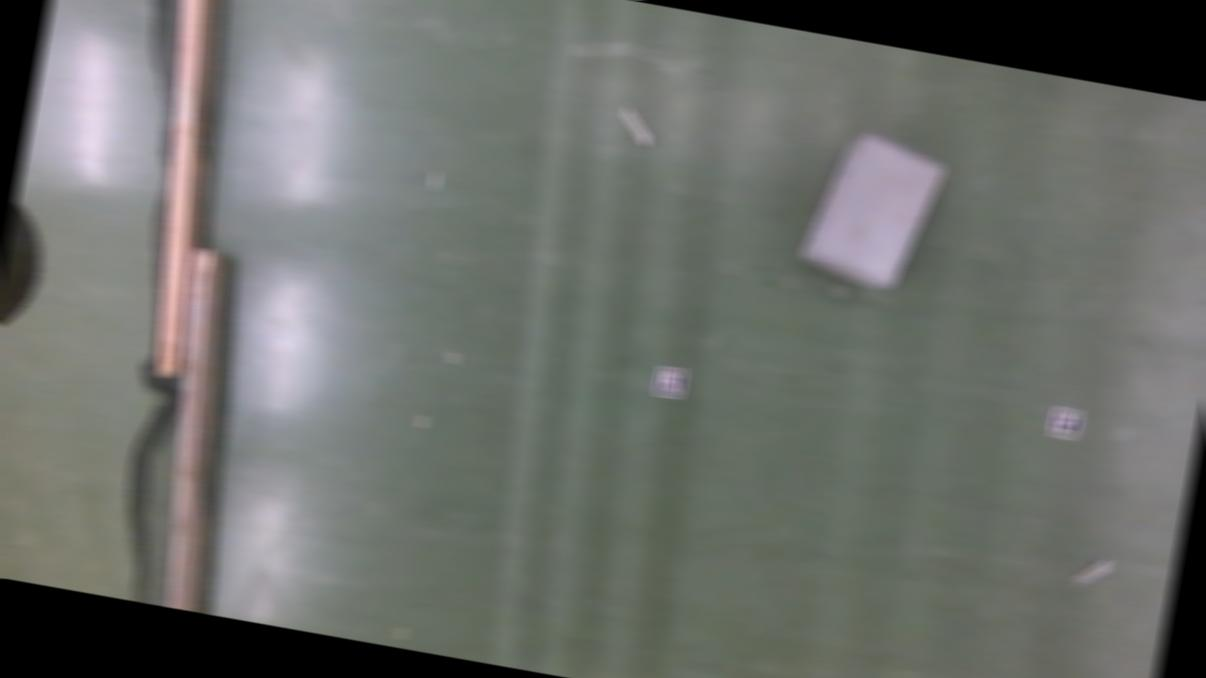probes: (1072, 553, 1110, 592), (617, 104, 654, 144)
rako: (795, 120, 951, 294)
